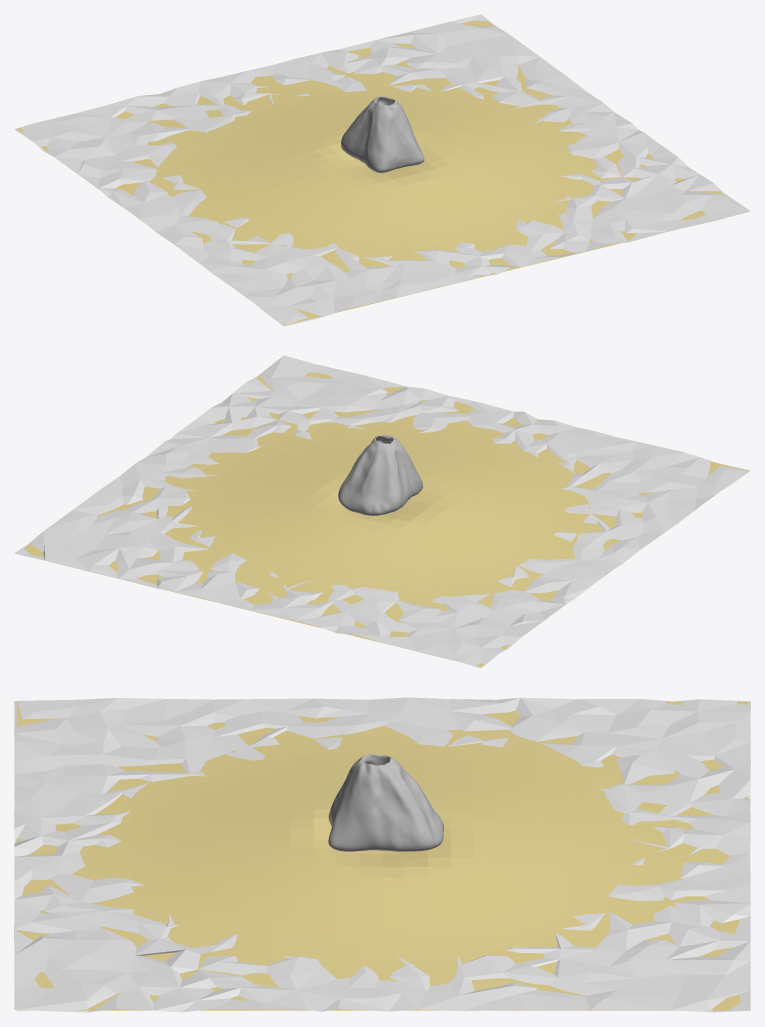
Rendered from isla.fbx.
The picture shows the model from 3 angles, top to bottom: view 1: azimuth 30°, elevation 25°; view 2: azimuth 150°, elevation 25°; view 3: azimuth 270°, elevation 25°; orthographic projection. The views are drawn at different scales.
Visible parts, largest first — view 1: Plane, Plane.001, PolySphere1; view 2: Plane, Plane.001, PolySphere1; view 3: Plane, Plane.001, PolySphere1.
Part boxes in pixels (box(x1,y1,x2,y2)): Plane: box(14, 14, 750, 326); Plane.001: box(17, 21, 748, 325); PolySphere1: box(341, 96, 424, 172); Plane: box(14, 355, 750, 668); Plane.001: box(24, 372, 747, 666); PolySphere1: box(338, 435, 422, 515); Plane: box(14, 697, 750, 1012); Plane.001: box(16, 701, 748, 1010); PolySphere1: box(328, 754, 443, 851).
Size of the model in its own units: 173 by 26.19 by 173.
